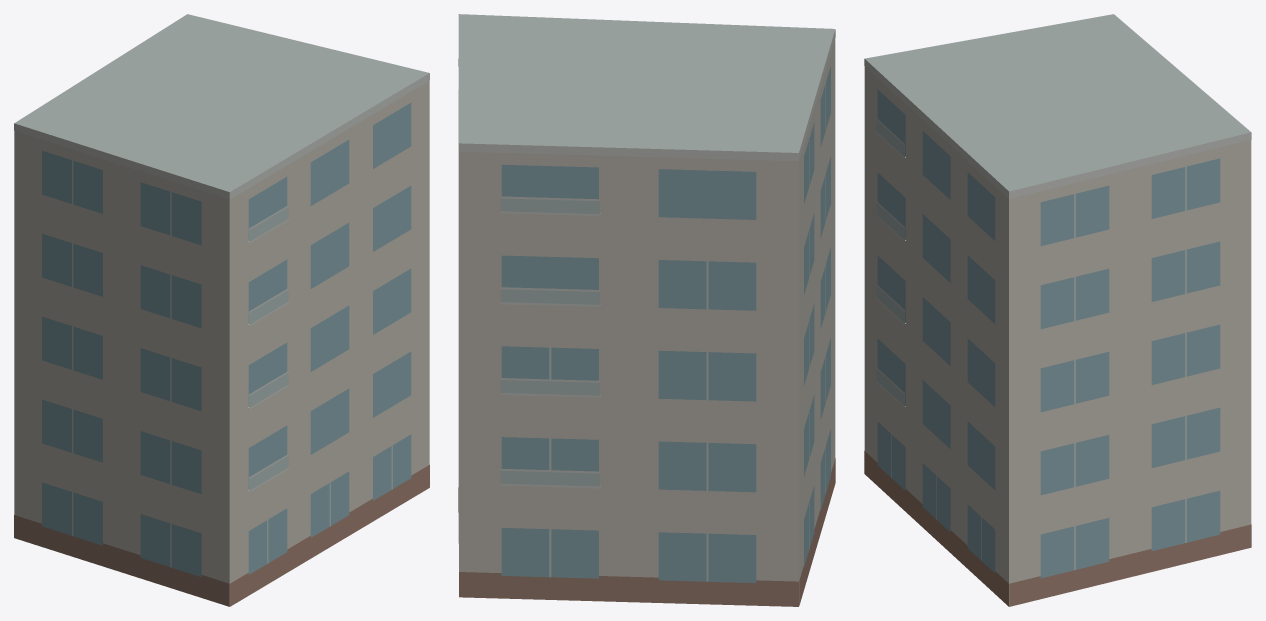
File: survey-upis-32727442.glb
3 renders of one model, left to right at view 1: azimuth 30°, elevation 25°; view 2: azimuth 150°, elevation 25°; view 3: azimuth 270°, elevation 25°, orthographic. The views are drawn at different scales.
Parts seen in each view (by area): view 1: survey-upis-32727442.tmp; view 2: survey-upis-32727442.tmp; view 3: survey-upis-32727442.tmp.
Boxes of the visible parts, x1,y1,x2,y2 form: survey-upis-32727442.tmp: [14, 14, 429, 606]; survey-upis-32727442.tmp: [458, 14, 835, 606]; survey-upis-32727442.tmp: [864, 14, 1251, 606].
Size of the model in its own units: 12.48 by 13.6 by 11.49.
